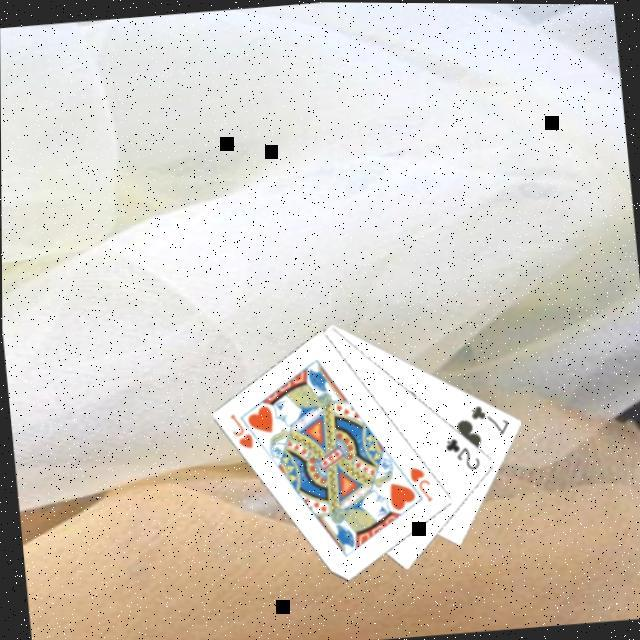2C: (439, 432, 482, 475)
7C: (464, 399, 512, 440)
JH: (224, 409, 256, 453), (404, 462, 434, 507)
